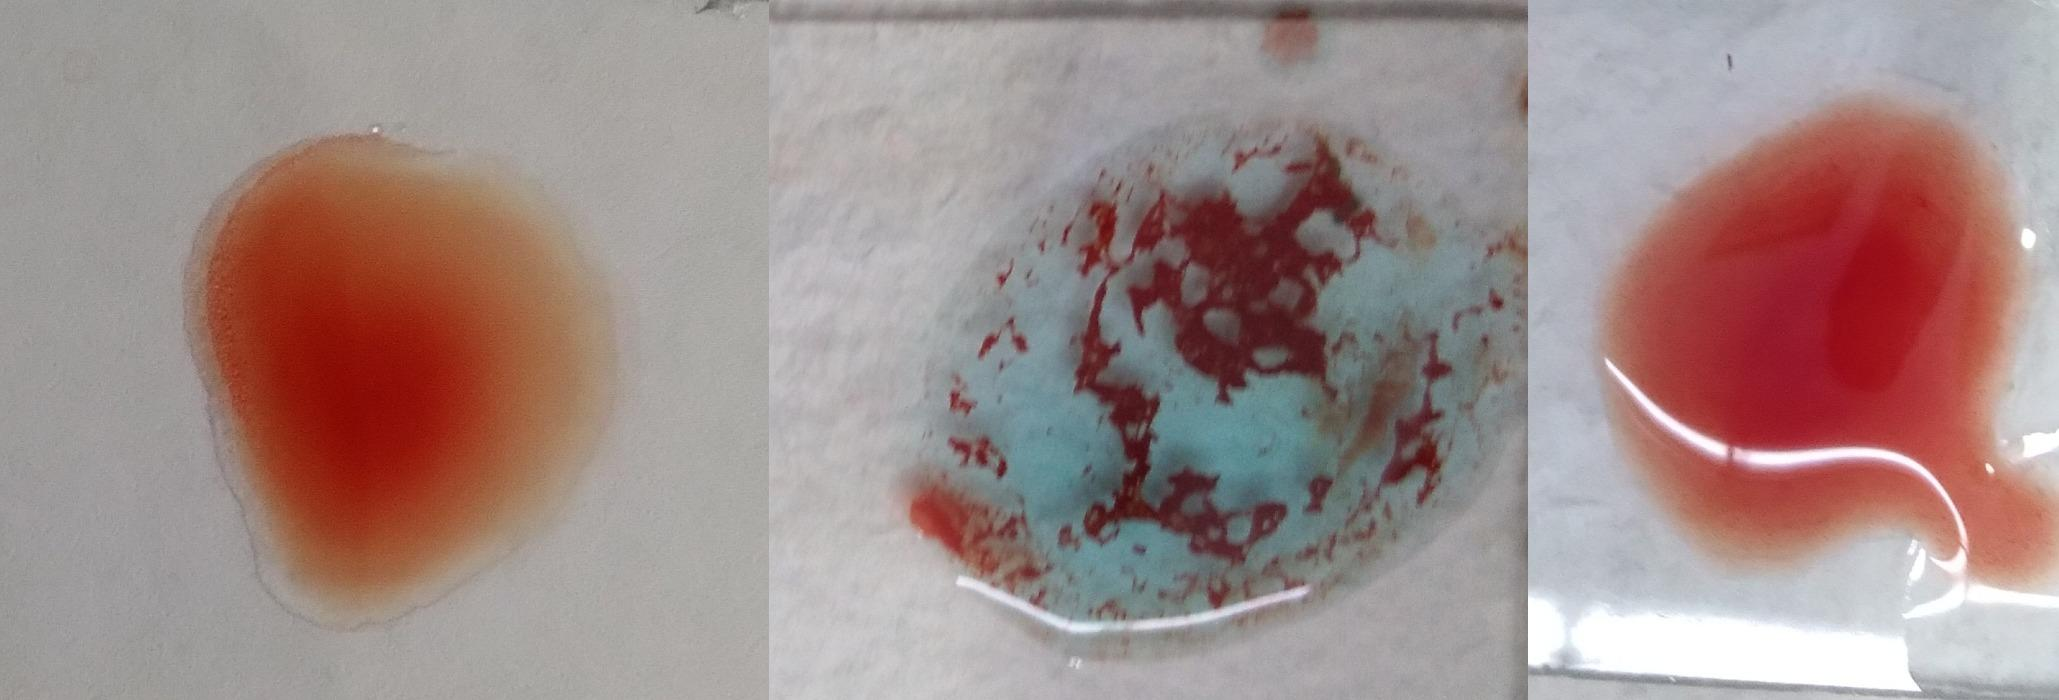A: (880, 67, 1515, 662)
